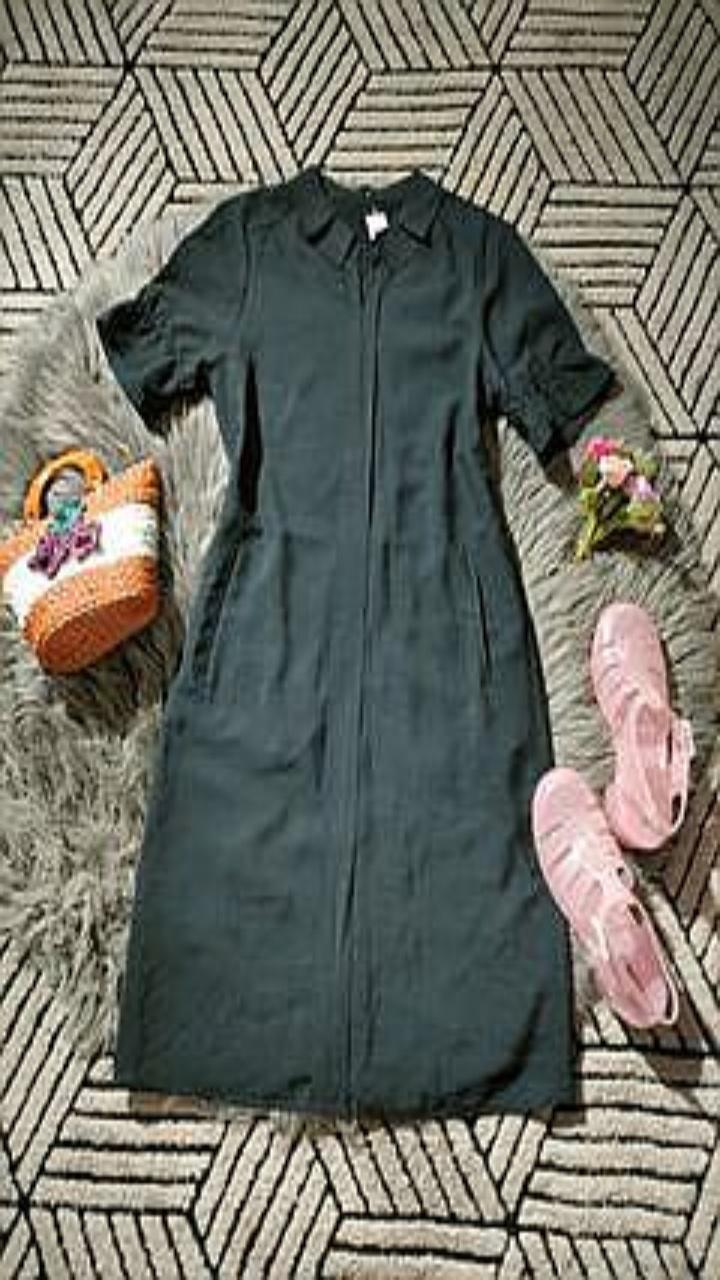Dresses: (97, 166, 614, 1116)
